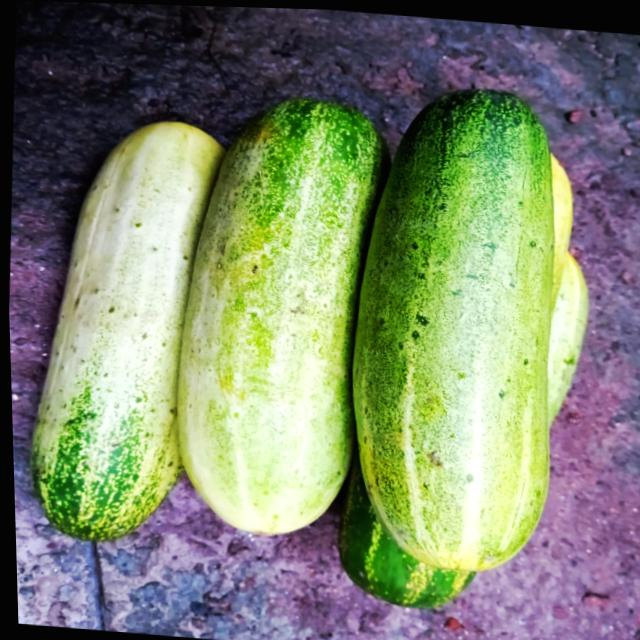Fresh-Cucumber: (331, 71, 574, 581), (156, 80, 404, 551), (13, 106, 238, 554)
